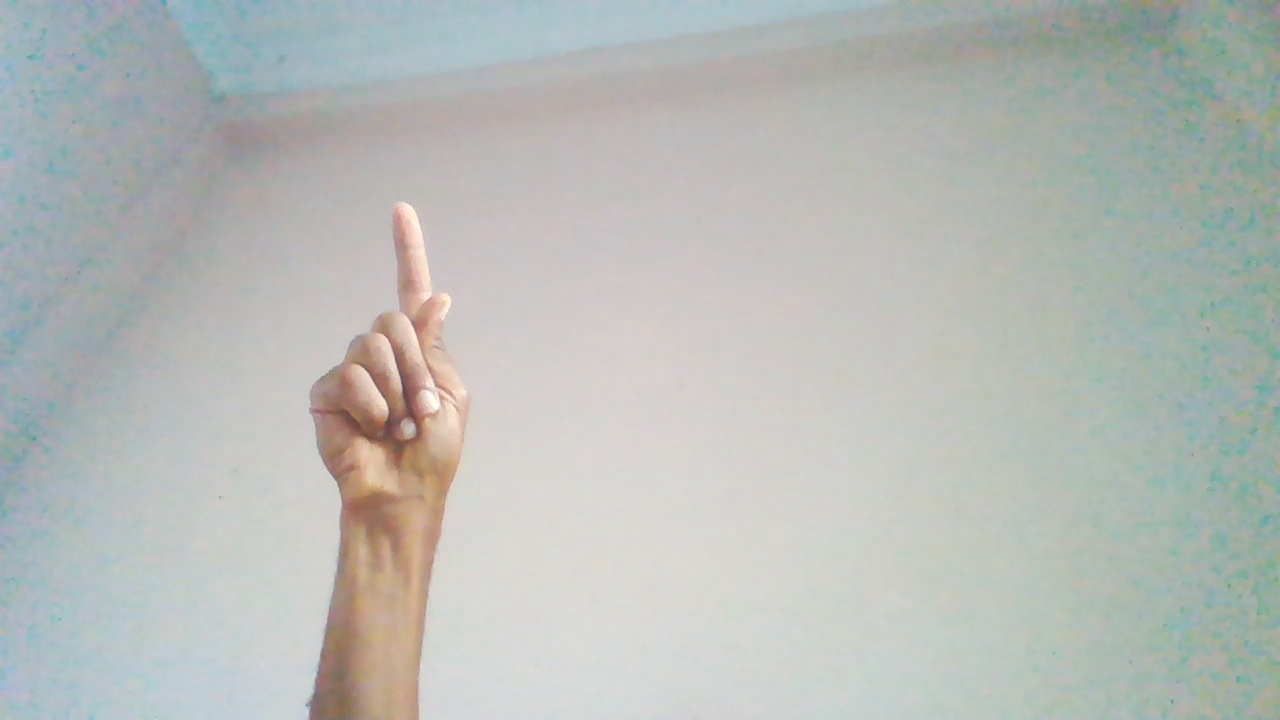ne: (308, 198, 471, 577)
